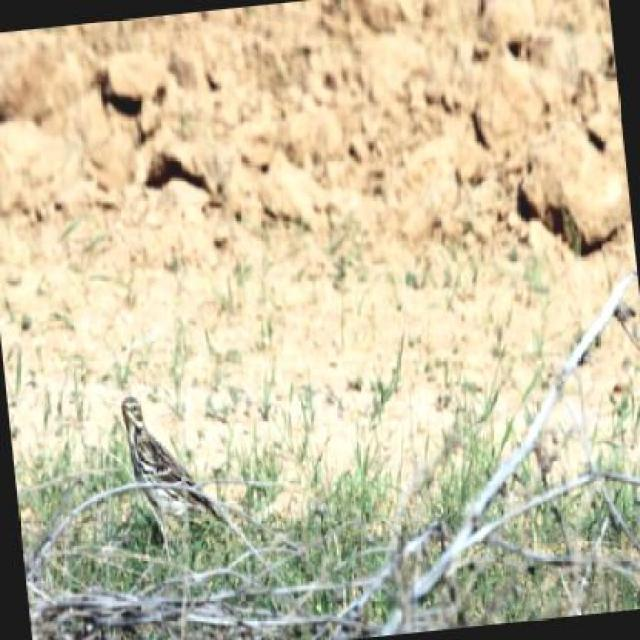Bird: (101, 389, 222, 521)
